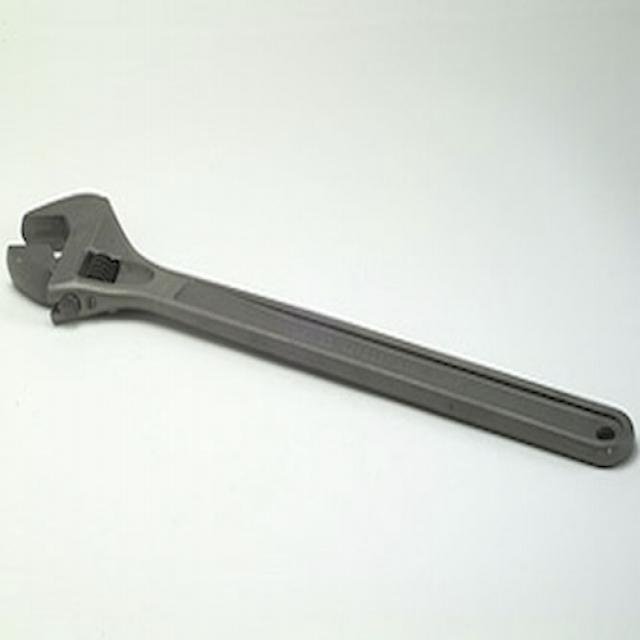wrench: (0, 182, 640, 479)
